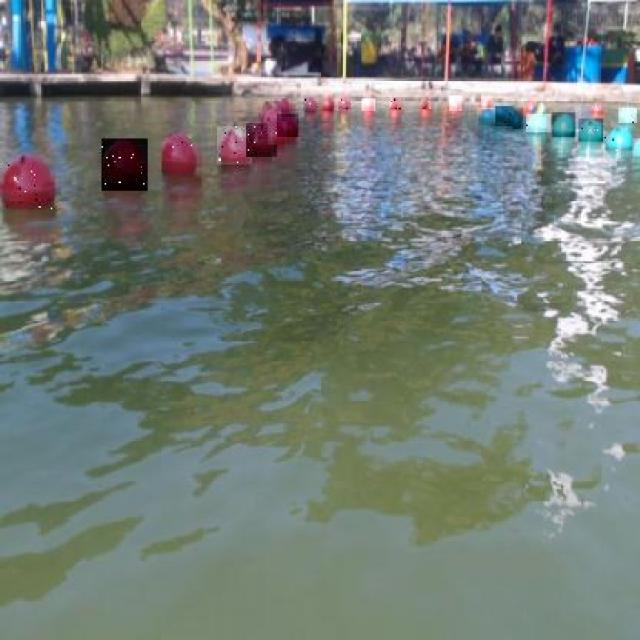green_ball: (605, 126, 633, 151), (553, 112, 575, 136), (579, 119, 602, 141), (526, 114, 547, 134), (496, 105, 516, 125), (506, 109, 523, 129), (620, 107, 638, 124), (479, 109, 496, 126), (533, 102, 547, 115)
red_ball: (0, 156, 58, 207), (102, 140, 148, 190), (162, 134, 198, 175), (217, 128, 252, 163), (248, 124, 273, 156), (256, 103, 285, 129), (273, 98, 294, 126), (276, 115, 300, 139), (267, 109, 285, 138), (266, 120, 288, 142), (445, 96, 460, 112), (593, 98, 605, 118), (305, 96, 318, 113), (362, 97, 376, 112), (323, 95, 334, 113), (479, 94, 494, 107), (523, 97, 534, 114), (419, 98, 432, 111), (391, 97, 402, 111), (340, 97, 350, 109)
